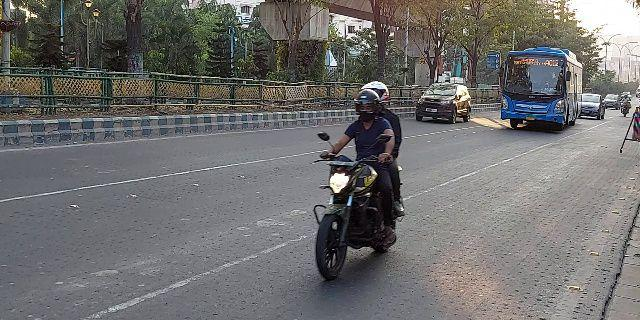Bus: (497, 46, 585, 134)
Car: (413, 79, 473, 125), (579, 91, 607, 125)
Motorbike: (304, 83, 410, 286)
